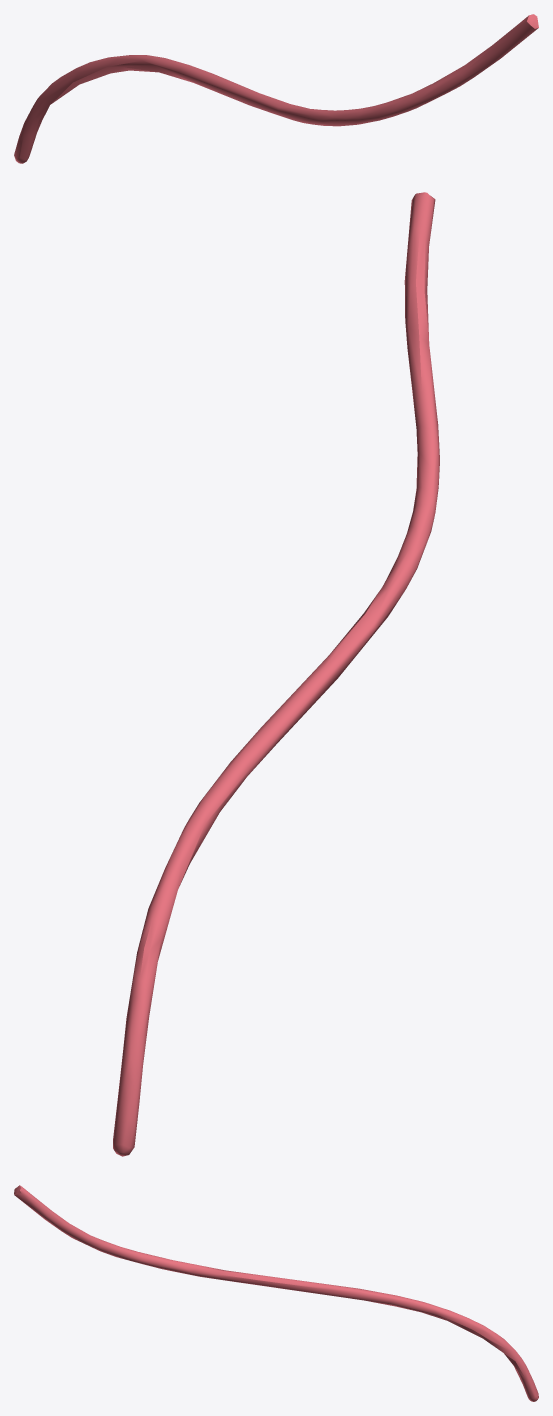
File: fma15393_fj3657.glb
3 views of the same model, one above another, from view 1: azimuth 30°, elevation 25°; view 2: azimuth 150°, elevation 25°; view 3: azimuth 270°, elevation 25° (orthographic). The views are drawn at different scales.
Parts seen in each view (by area): view 1: FMA15393_FJ3657; view 2: FMA15393_FJ3657; view 3: FMA15393_FJ3657.
Part boxes in pixels (left/top/right/bottom): FMA15393_FJ3657: left=14, top=14, right=538, bottom=163; FMA15393_FJ3657: left=113, top=192, right=439, bottom=1156; FMA15393_FJ3657: left=14, top=1185, right=538, bottom=1401.
Bounding box in the file's own units: 0.0231 × 0.0508 × 0.0903.
